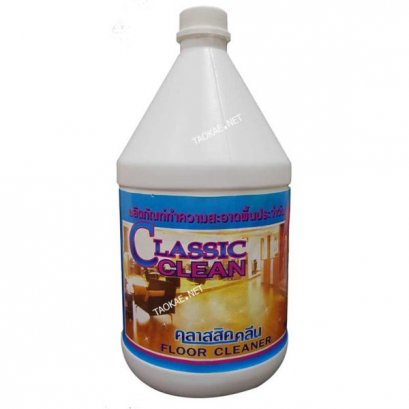Cleaning_solution: (114, 2, 296, 404)
